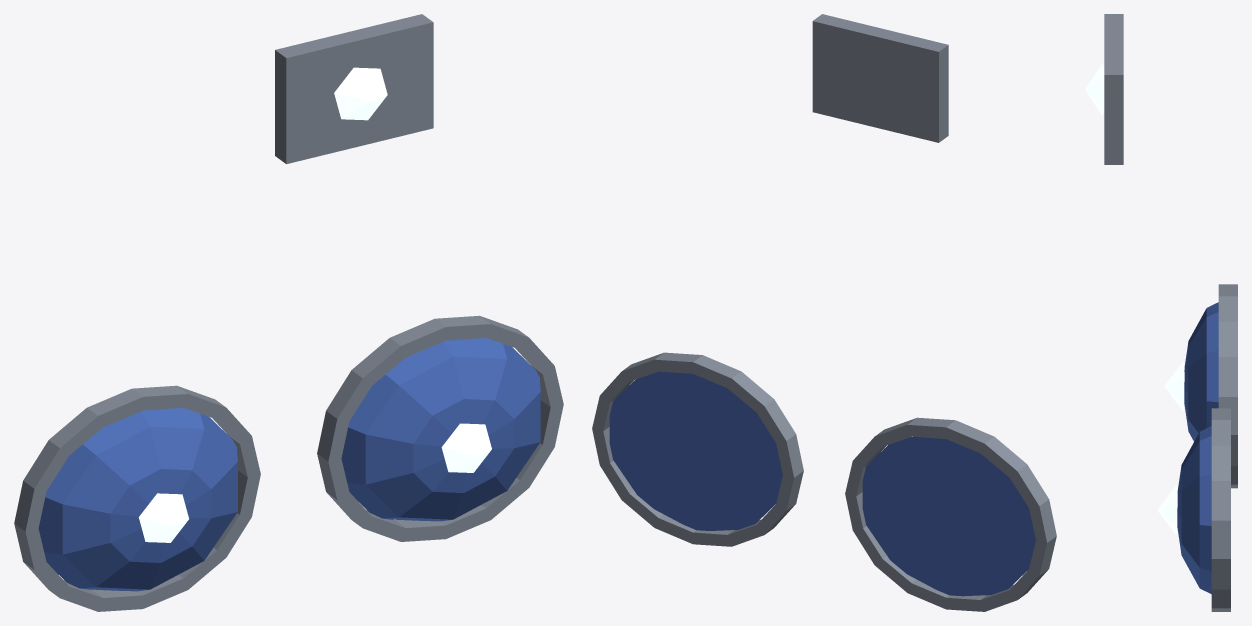
Rendered from armor_guard_legs_rare_orc.glb.
3 renders of one model, left to right at view 1: azimuth 30°, elevation 25°; view 2: azimuth 150°, elevation 25°; view 3: azimuth 270°, elevation 25°, orthographic. The views are drawn at different scales.
Visible parts, largest first — view 1: armor_guard_legs_rare_orc__calf_l, armor_guard_legs_rare_orc__calf_r, armor_guard_legs_rare_orc__pelvis; view 2: armor_guard_legs_rare_orc__calf_l, armor_guard_legs_rare_orc__calf_r, armor_guard_legs_rare_orc__pelvis; view 3: armor_guard_legs_rare_orc__calf_l, armor_guard_legs_rare_orc__calf_r, armor_guard_legs_rare_orc__pelvis.
Boxes of the visible parts, x1,y1,x2,y2 form: armor_guard_legs_rare_orc__calf_l: [317, 315, 563, 541]; armor_guard_legs_rare_orc__calf_r: [14, 385, 260, 611]; armor_guard_legs_rare_orc__pelvis: [275, 14, 433, 164]; armor_guard_legs_rare_orc__calf_l: [592, 352, 803, 546]; armor_guard_legs_rare_orc__calf_r: [845, 417, 1056, 611]; armor_guard_legs_rare_orc__pelvis: [812, 14, 948, 142]; armor_guard_legs_rare_orc__calf_l: [1157, 408, 1230, 611]; armor_guard_legs_rare_orc__calf_r: [1164, 284, 1237, 488]; armor_guard_legs_rare_orc__pelvis: [1085, 14, 1123, 164].
Bounding box in the file's own units: 32.67 × 34 × 9.53.
